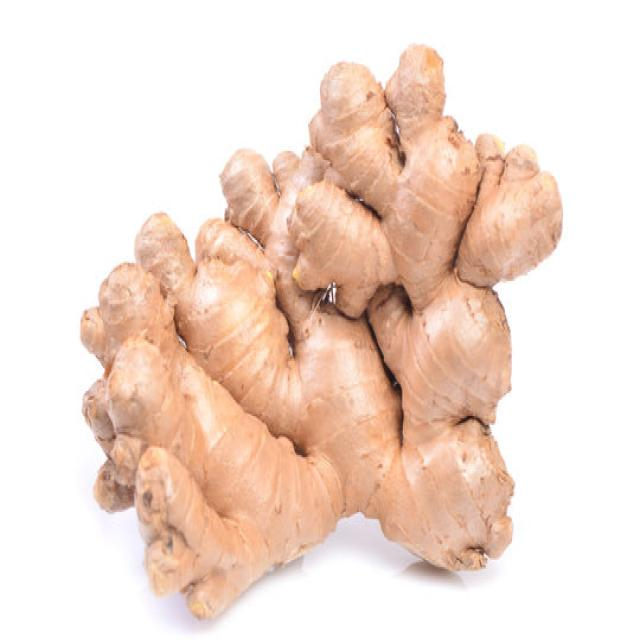Ginger: (78, 41, 563, 620)
